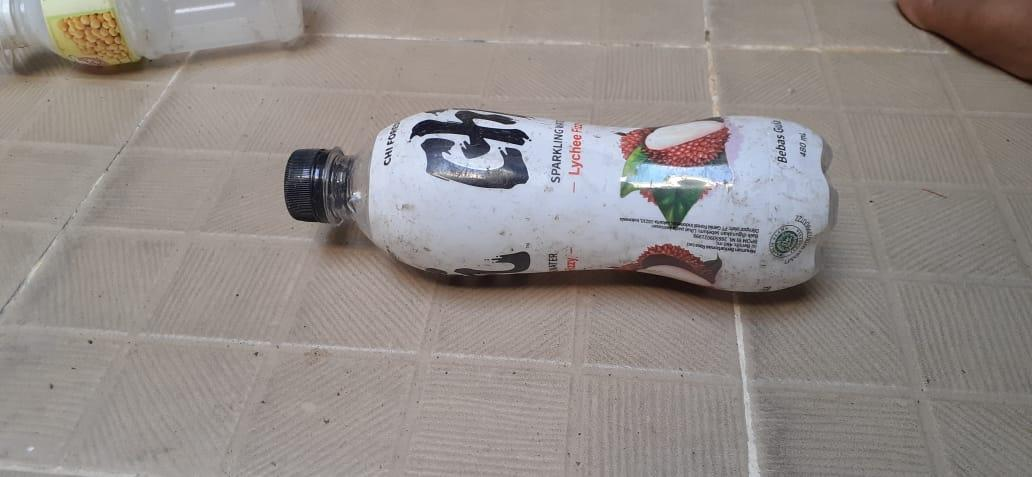Plastik: (284, 108, 837, 295), (0, 0, 306, 64)
